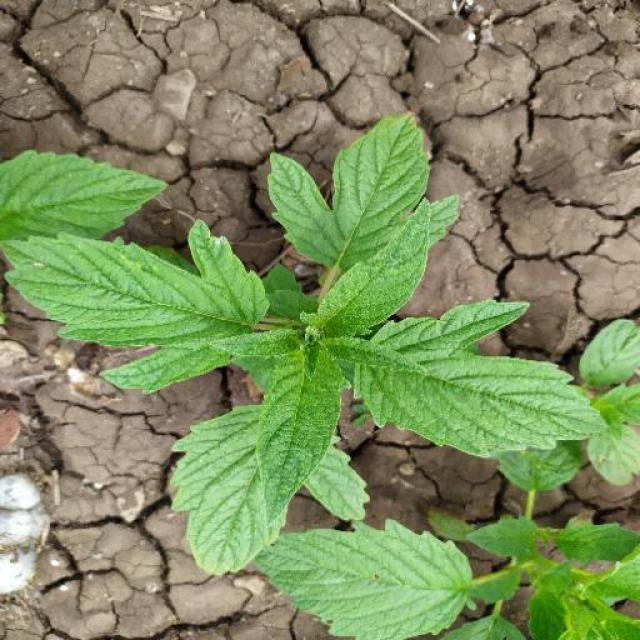crop: (1, 99, 631, 540)
